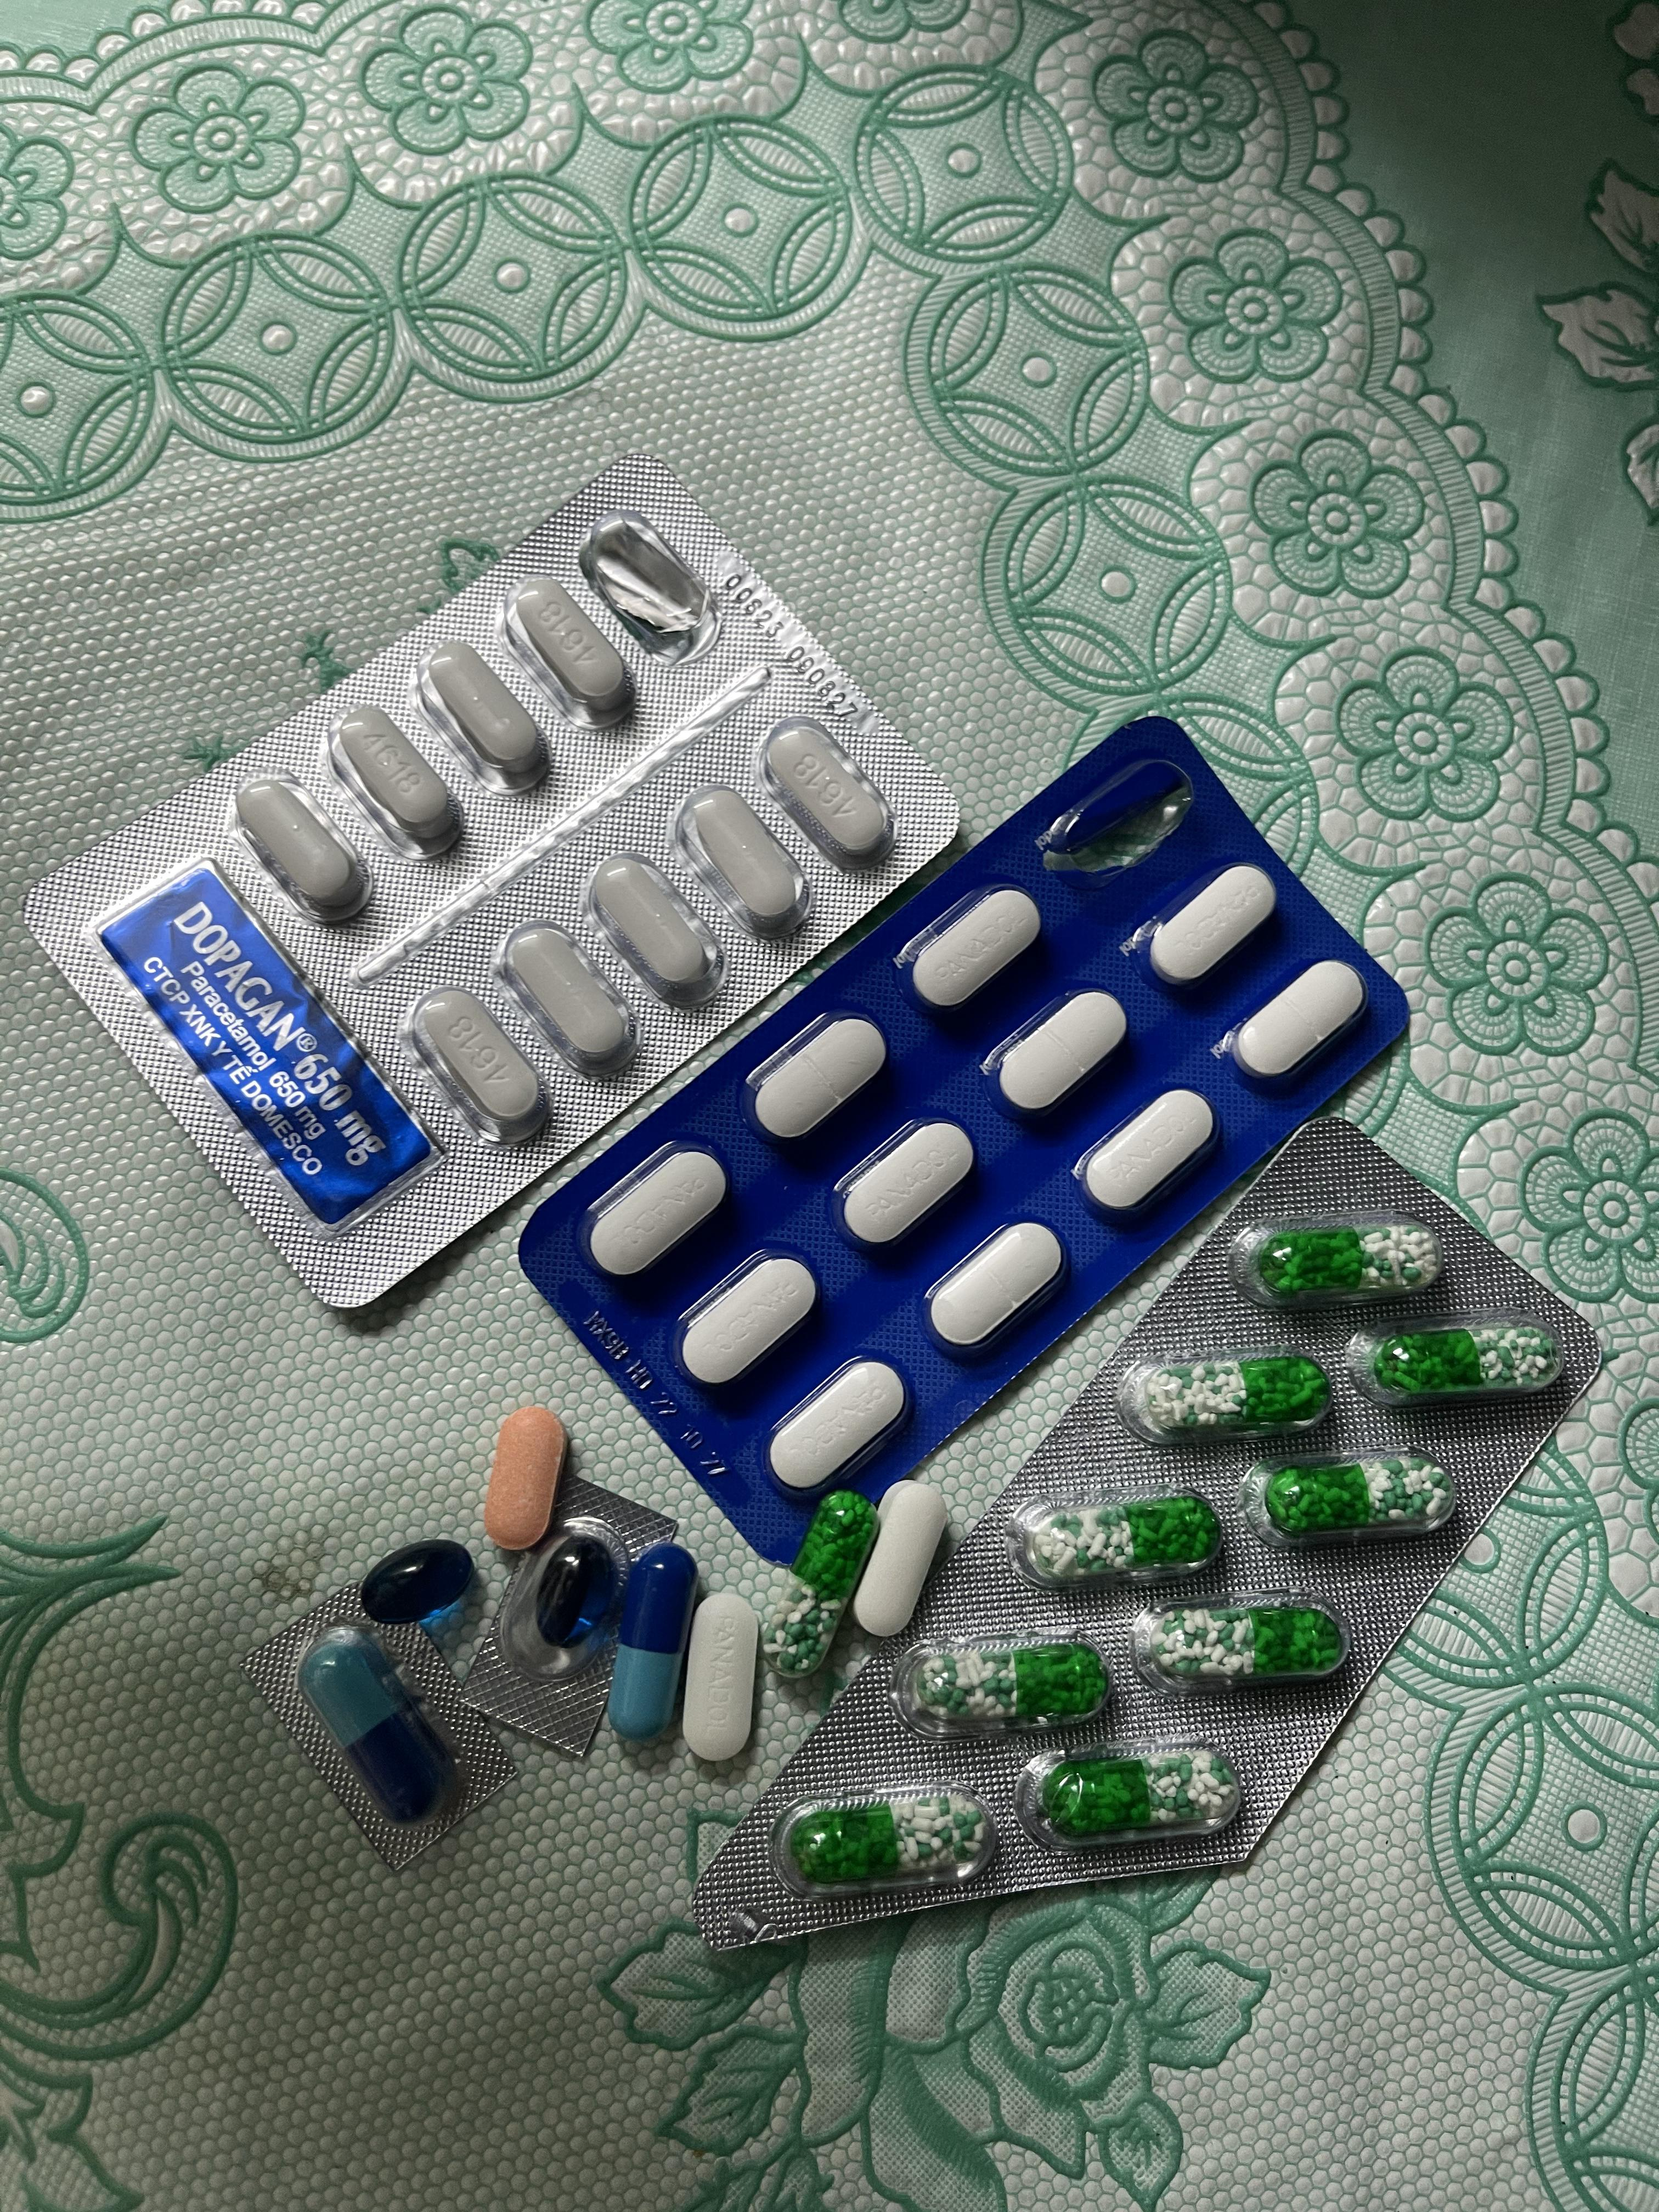Lincomyxin_500mg: (359, 1540, 477, 1648), (535, 1543, 608, 1648)
Loratadine_10mg: (484, 1411, 568, 1545)
Paracetamol_350mg: (1073, 1085, 1220, 1221), (929, 1219, 1072, 1353), (680, 1249, 819, 1385), (748, 1008, 887, 1139), (586, 1143, 721, 1275), (765, 1364, 901, 1496), (836, 1115, 974, 1245), (988, 989, 1126, 1120), (899, 880, 1039, 1007), (1229, 958, 1370, 1083), (1147, 862, 1279, 986), (683, 1594, 760, 1763)
Paracetamol_500mg: (587, 852, 728, 1012), (406, 988, 549, 1143), (498, 918, 638, 1076), (416, 639, 554, 799), (329, 704, 467, 864), (504, 575, 638, 737), (673, 782, 807, 942), (234, 775, 373, 927), (758, 721, 887, 874), (852, 1484, 946, 1637)
Paracetamol_650mg: (1248, 1453, 1455, 1547), (1121, 1348, 1314, 1447), (1136, 1597, 1342, 1689), (769, 1494, 877, 1669), (789, 1796, 986, 1883), (1046, 1752, 1230, 1836), (1030, 1498, 1208, 1575), (924, 1648, 1103, 1723), (1253, 1226, 1445, 1296), (1368, 1327, 1556, 1395)
pill: (300, 1620, 457, 1825), (610, 1547, 699, 1742)
